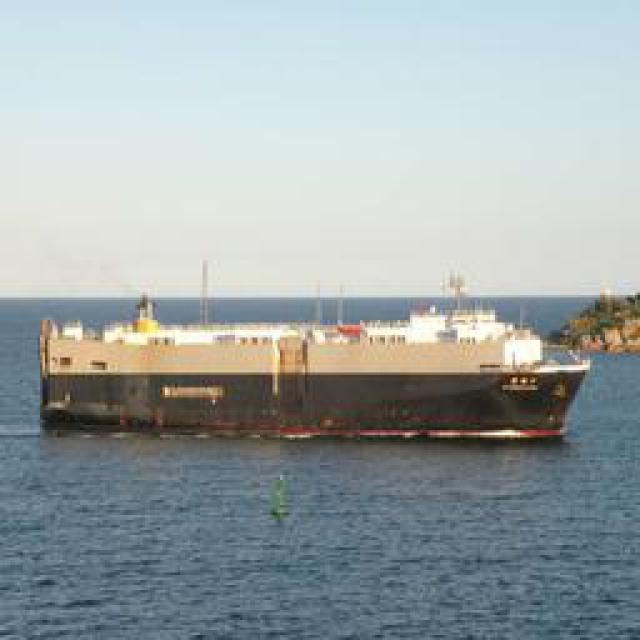Ship: (35, 297, 595, 435)
